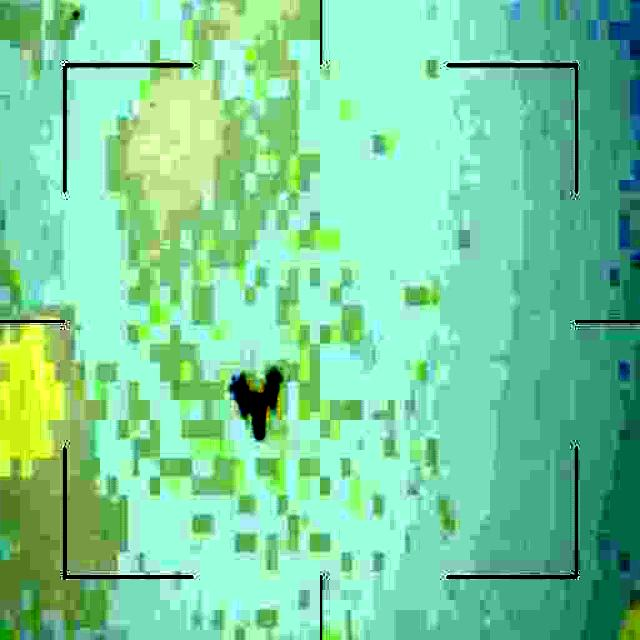bird: (229, 368, 289, 444)
